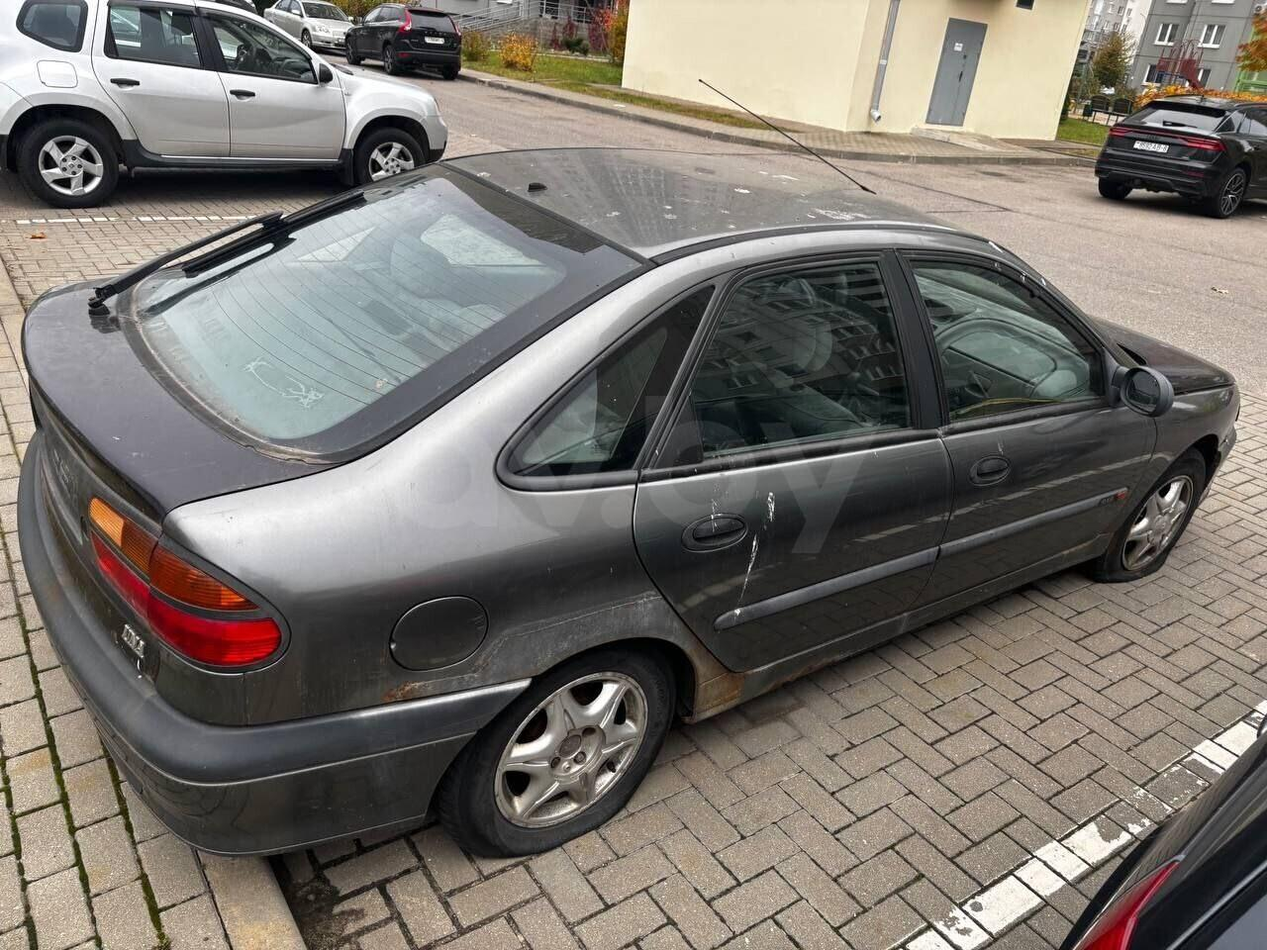Lahuna_1993-1999: (5, 142, 1247, 861)
